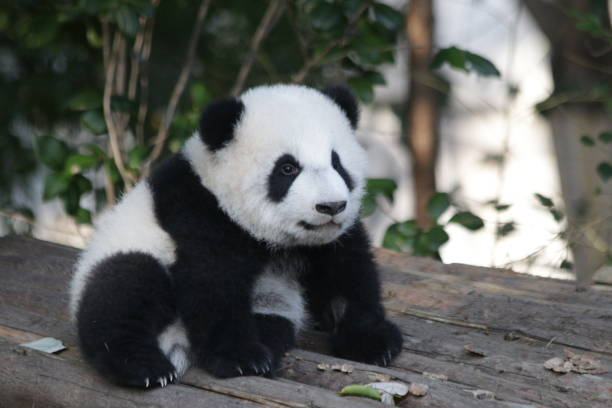panda: (183, 67, 384, 262)
